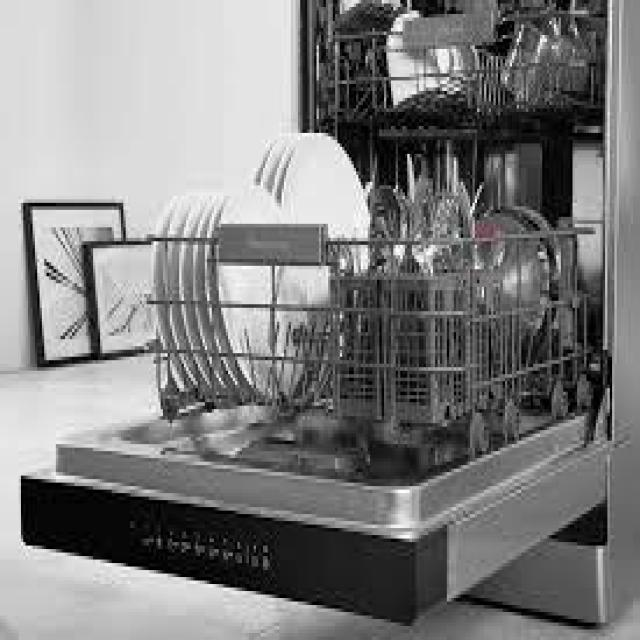dishwasher: (60, 0, 636, 637)
